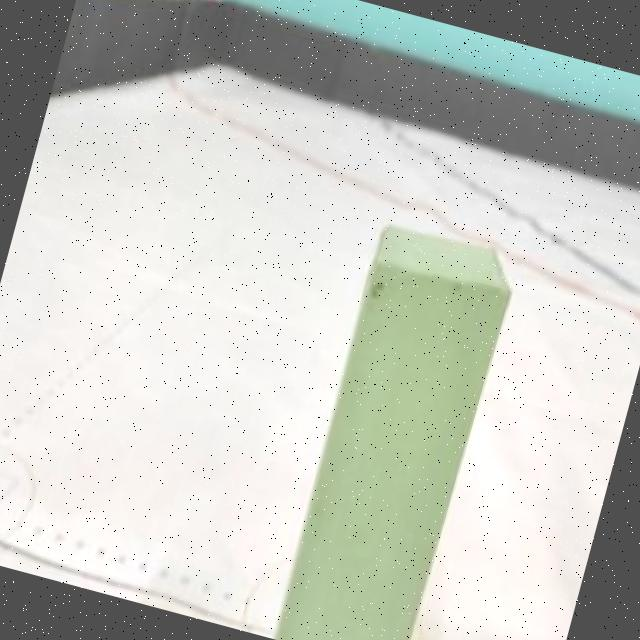greenbox: (264, 220, 516, 640)
